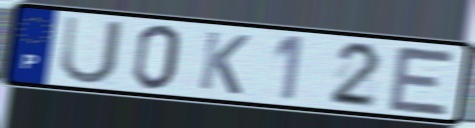0: (129, 22, 185, 92)
1: (269, 32, 306, 103)
2: (326, 40, 384, 111)
E: (385, 43, 459, 118)
K: (195, 28, 253, 97)
U: (57, 13, 126, 86)
